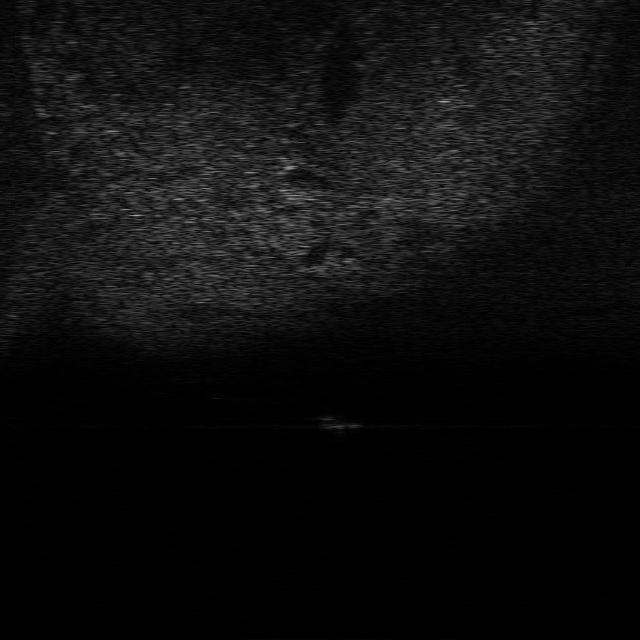cube: (315, 408, 365, 433)
